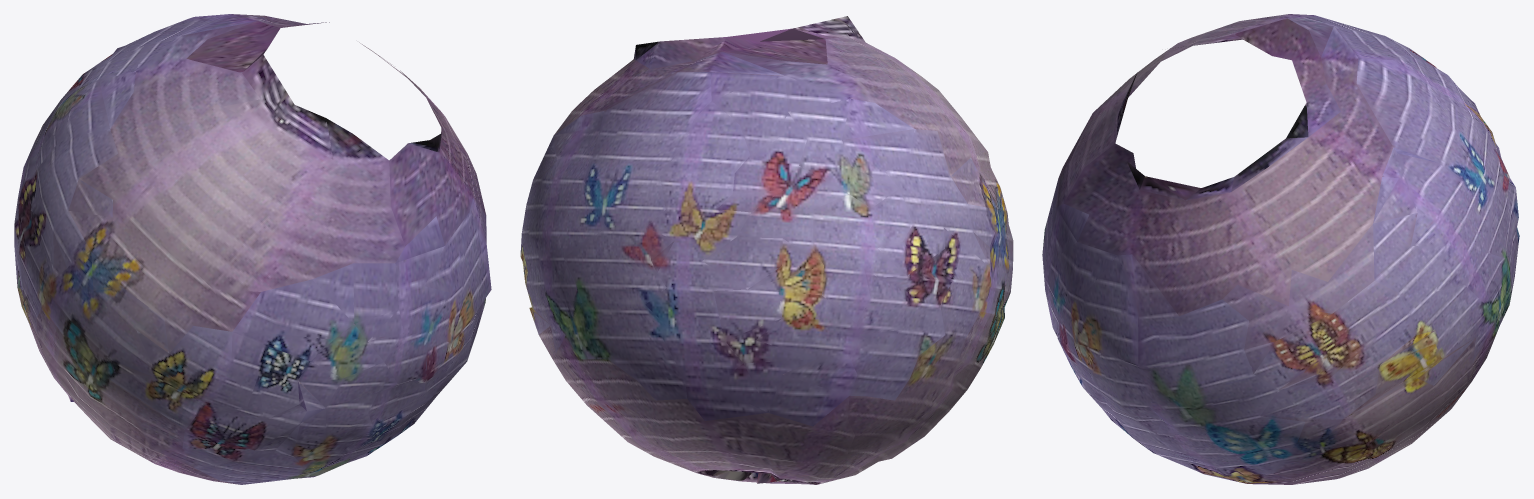
The model's file is AC2 Yona Butterflies 512.glb.
3 renders of one model, left to right at view 1: azimuth 30°, elevation 25°; view 2: azimuth 150°, elevation 25°; view 3: azimuth 270°, elevation 25°, orthographic.
Bounding box in the file's own units: 1000 × 957 × 986.
1 material, 1 textured.
